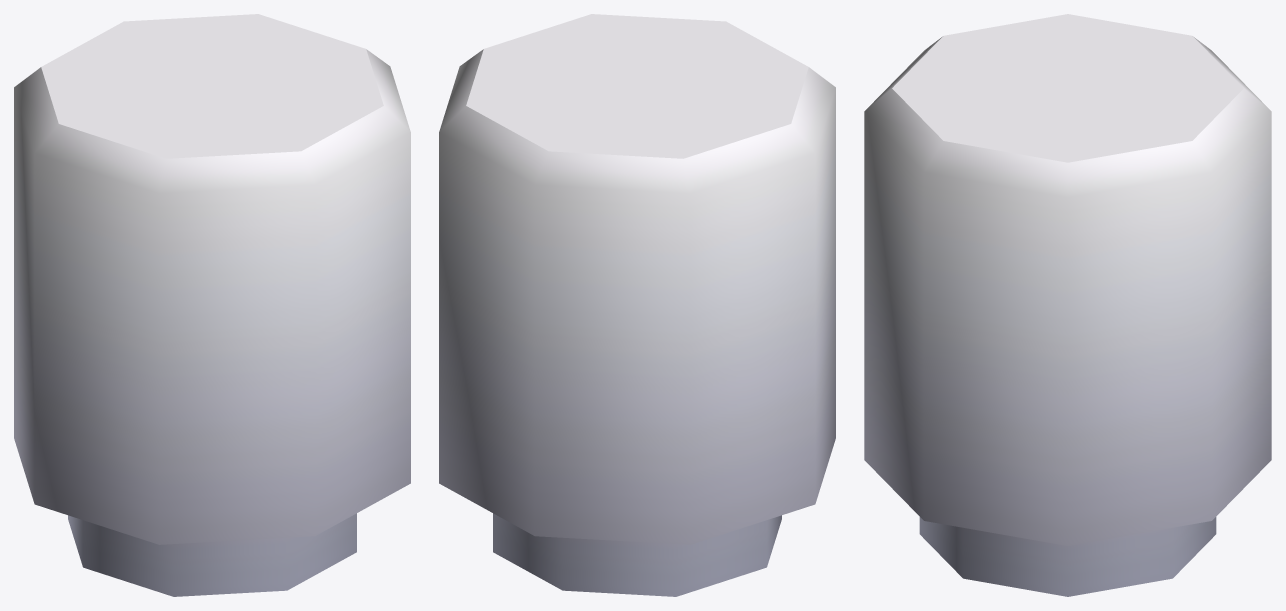
Rendered from kenney-brick-none-hq-brick-1-x-1-round.glb.
3 views of the same model, side by side, from view 1: azimuth 30°, elevation 25°; view 2: azimuth 150°, elevation 25°; view 3: azimuth 270°, elevation 25° (orthographic).
Visible parts, largest first — view 1: none-hq-brick-1x1-round; view 2: none-hq-brick-1x1-round; view 3: none-hq-brick-1x1-round.
Boxes of the visible parts, x1,y1,x2,y2 form: none-hq-brick-1x1-round: (14, 14, 410, 596); none-hq-brick-1x1-round: (439, 14, 835, 596); none-hq-brick-1x1-round: (864, 14, 1271, 596).
Bounding box in the file's own units: 0.0795 × 0.096 × 0.0795.
Materials: 1 (1 with a texture image).
